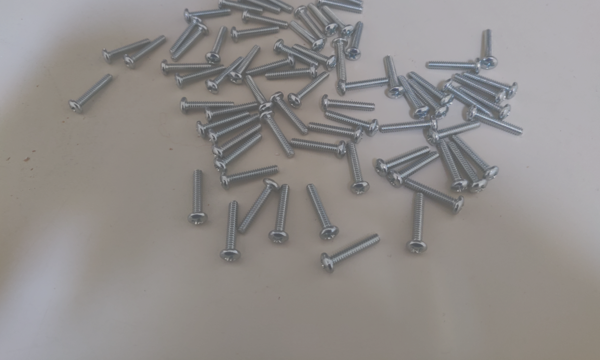longscrew: (237, 182, 281, 233), (324, 234, 382, 271), (458, 84, 512, 120), (404, 180, 468, 210), (440, 78, 493, 114), (449, 142, 487, 191), (464, 105, 524, 136), (456, 133, 497, 178), (390, 151, 440, 187), (68, 72, 111, 113), (404, 76, 447, 116), (218, 200, 243, 268), (187, 166, 212, 234), (377, 143, 431, 174), (212, 125, 262, 158), (211, 137, 260, 170), (310, 181, 336, 242), (123, 34, 169, 68), (268, 185, 292, 249), (220, 163, 281, 188), (395, 75, 428, 121), (290, 70, 329, 108), (262, 113, 294, 159), (454, 73, 506, 101), (407, 71, 452, 103), (206, 56, 243, 93), (274, 89, 304, 134), (175, 61, 225, 88), (287, 138, 345, 161), (436, 142, 462, 193), (168, 15, 201, 55), (305, 119, 362, 142), (197, 112, 249, 137), (208, 121, 261, 145), (173, 24, 209, 59), (321, 112, 378, 134), (231, 44, 262, 84), (467, 73, 518, 97), (427, 123, 482, 144), (275, 43, 321, 68), (347, 142, 368, 196), (381, 54, 406, 99), (204, 100, 257, 120), (181, 97, 234, 117), (334, 75, 389, 94), (103, 37, 148, 60), (410, 195, 426, 259), (203, 25, 229, 64), (380, 118, 439, 135), (244, 75, 271, 112), (295, 5, 326, 37), (312, 0, 366, 18), (321, 6, 353, 36), (247, 57, 293, 77), (292, 21, 326, 48), (239, 12, 292, 29), (265, 65, 315, 83), (184, 4, 229, 23), (293, 43, 334, 63), (317, 96, 378, 109), (231, 27, 279, 43), (332, 40, 350, 81), (310, 3, 336, 31), (479, 30, 495, 73), (425, 60, 481, 72), (347, 21, 362, 63), (219, 0, 263, 14), (160, 60, 210, 72), (241, 0, 281, 12), (255, 0, 295, 11), (317, 0, 366, 6)
